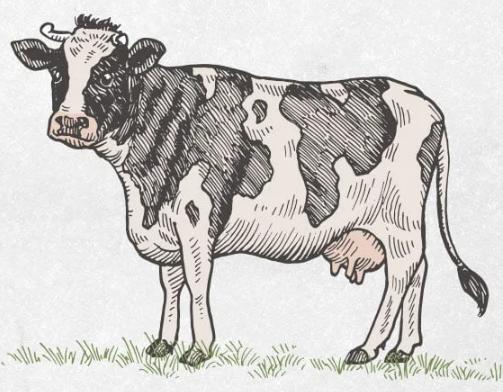cow: (13, 29, 444, 365)
